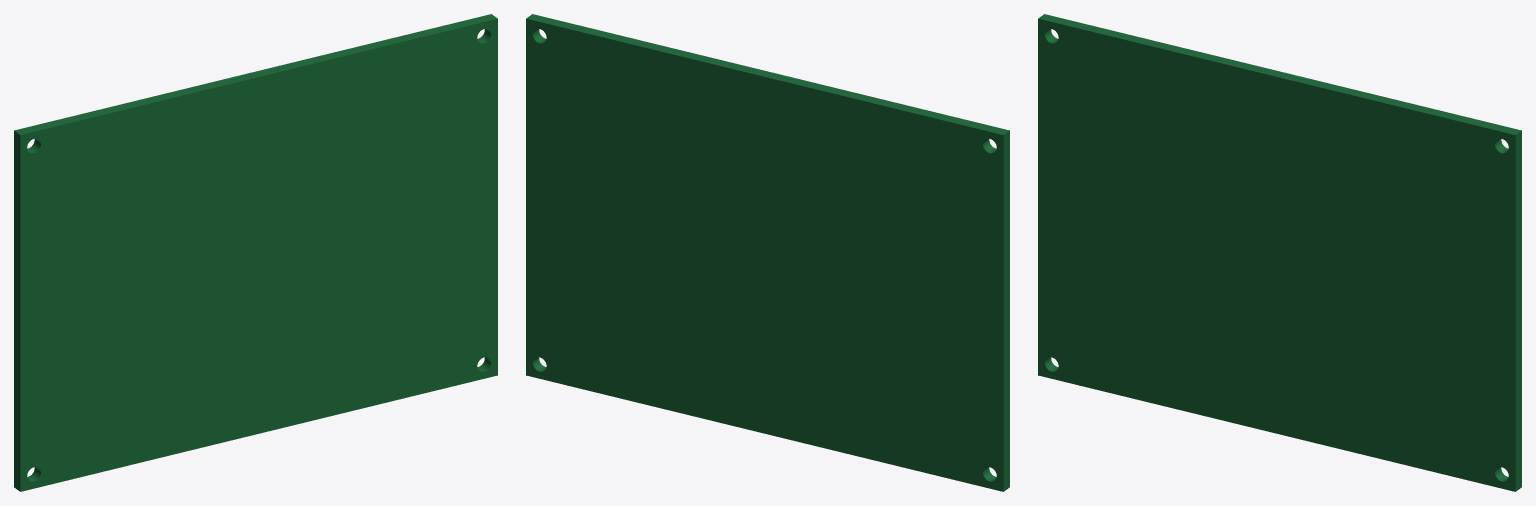
The model's file is perfboard.glb.
3 renders of one model, left to right at view 1: azimuth 30°, elevation 25°; view 2: azimuth 150°, elevation 25°; view 3: azimuth 330°, elevation 25°, orthographic.
Visible parts, largest first — view 1: pcb_0; view 2: pcb_0; view 3: pcb_0.
Part boxes in pixels (left/top/right/bottom): pcb_0: left=14, top=14, right=497, bottom=491; pcb_0: left=526, top=14, right=1009, bottom=491; pcb_0: left=1038, top=14, right=1521, bottom=491.
Bounding box in the file's own units: 70 × 50 × 1.6.
